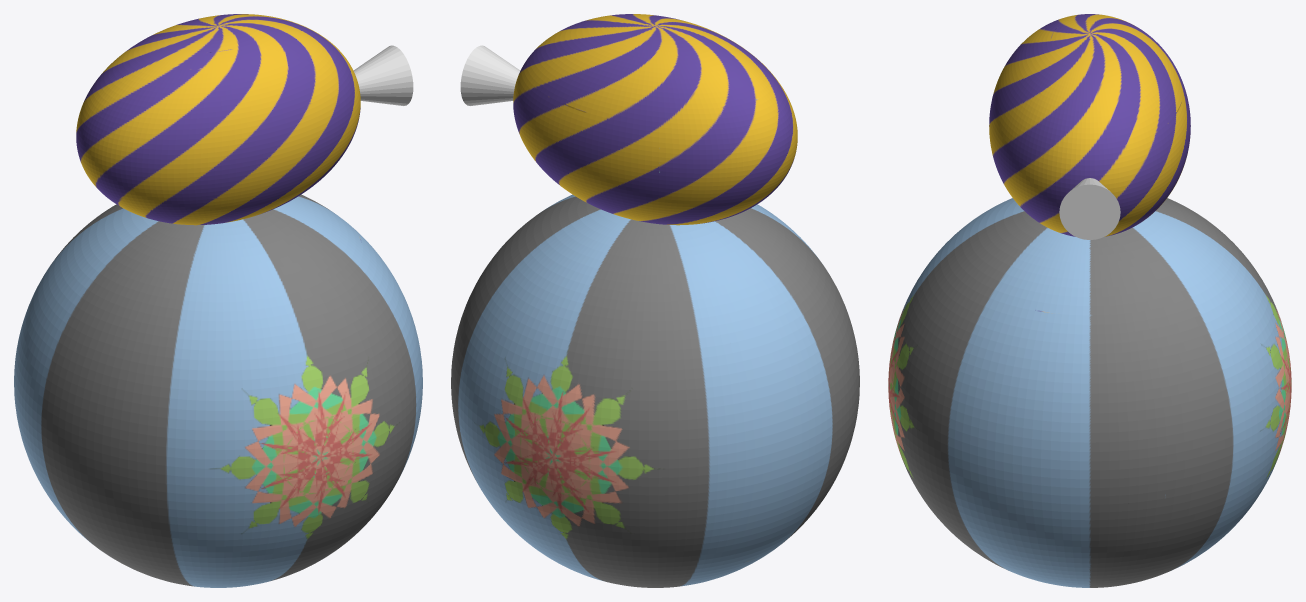
The model's file is BOD0_BMC15_BCC0_BPT2_FRC6_HEA1_HMC6_HCC9_HPT3_ELT0_ERT3_ELL1_ERL0_AP0_AAL1_AAR2_BEK0.fbx.
3 renders of one model, left to right at view 1: azimuth 30°, elevation 25°; view 2: azimuth 150°, elevation 25°; view 3: azimuth 270°, elevation 25°, orthographic.
Visible parts, largest first — view 1: Body, Ear; view 2: Body, Ear; view 3: Body, Ear.
Boxes of the visible parts, box(x1,y1,x2,y2) form: Body: box(14, 14, 422, 587); Ear: box(353, 45, 413, 105); Body: box(451, 14, 859, 587); Ear: box(460, 45, 520, 105); Body: box(888, 14, 1291, 587); Ear: box(1059, 178, 1120, 239).
Size of the model in its own units: 49.68 by 72.41 by 49.36.
1 material, 1 textured.
